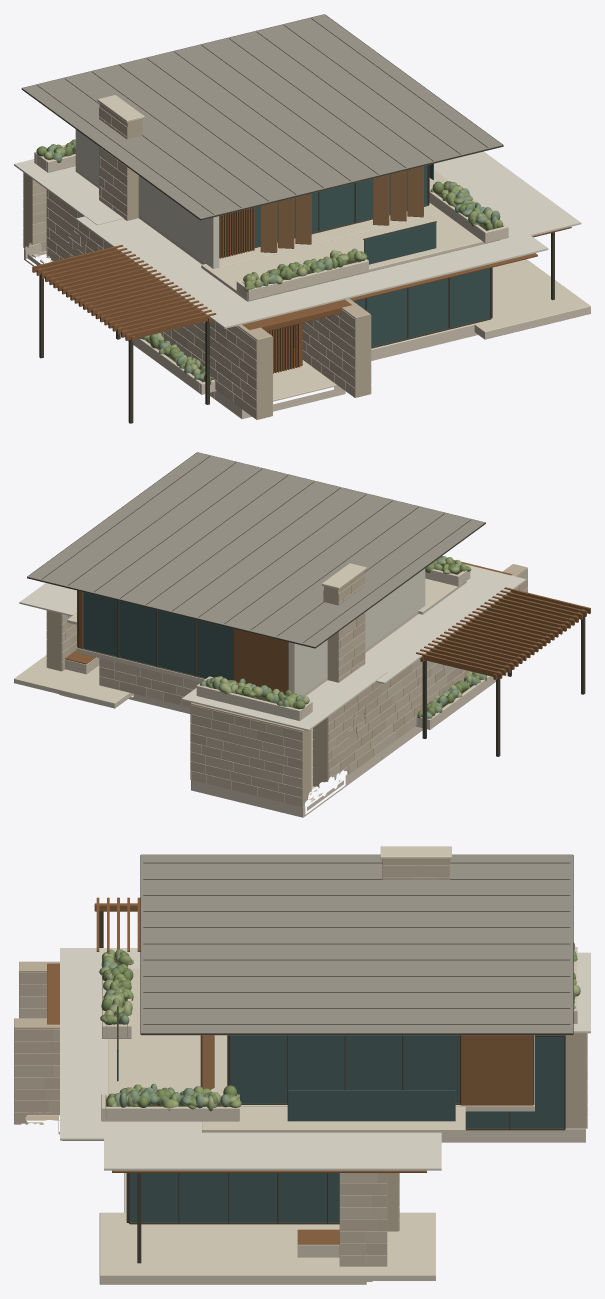
File: casa-1.glb
3 renders of one model, top to bottom at view 1: azimuth 30°, elevation 25°; view 2: azimuth 150°, elevation 25°; view 3: azimuth 270°, elevation 25°, orthographic. The views are drawn at different scales.
Parts seen in each view (by area): view 1: Casa 01 | Arquitectura sin solapes, Casa 01 | Vegetacion integrada; view 2: Casa 01 | Arquitectura sin solapes, Casa 01 | Vegetacion integrada; view 3: Casa 01 | Arquitectura sin solapes, Casa 01 | Vegetacion integrada.
Part boxes in pixels (<box>): Casa 01 | Arquitectura sin solapes: <box>14,14,590,423</box>; Casa 01 | Vegetacion integrada: <box>34,139,508,394</box>; Casa 01 | Arquitectura sin solapes: <box>14,452,590,817</box>; Casa 01 | Vegetacion integrada: <box>196,556,495,729</box>; Casa 01 | Arquitectura sin solapes: <box>14,846,590,1284</box>; Casa 01 | Vegetacion integrada: <box>99,942,580,1121</box>.
Bounding box in the file's own units: 19.72 × 7.95 × 17.5.
